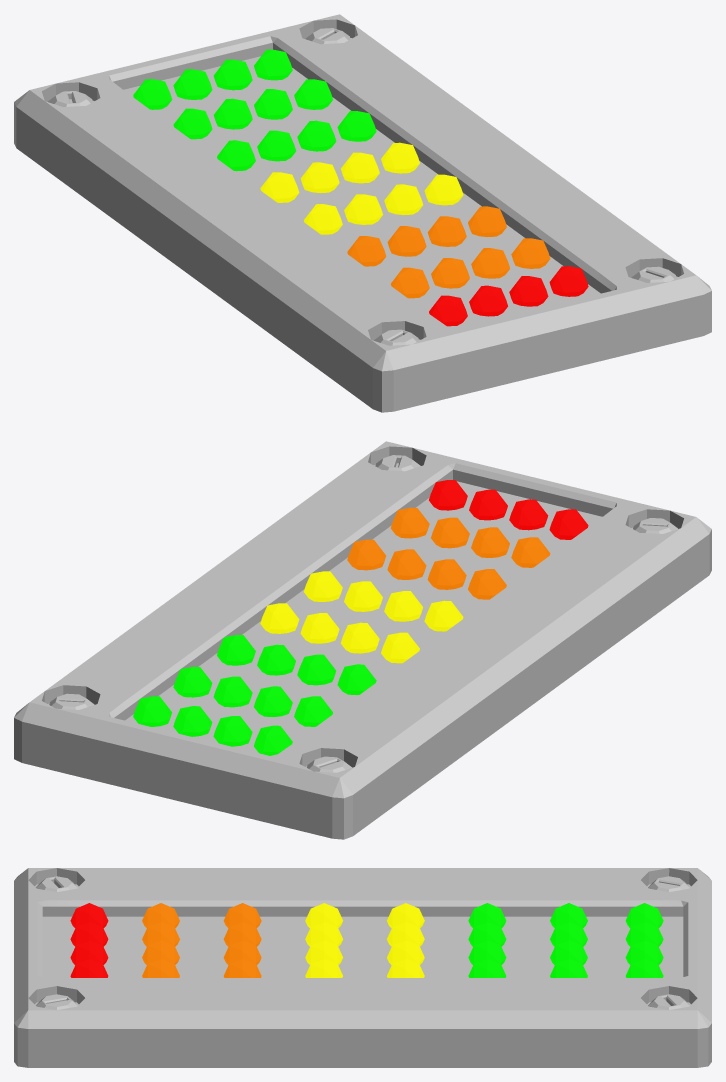
Rendered from NASA_Control_PotentiometerX4.FBX.
3 renders of one model, top to bottom at view 1: azimuth 30°, elevation 25°; view 2: azimuth 150°, elevation 25°; view 3: azimuth 270°, elevation 25°, orthographic. The views are drawn at different scales.
Visible parts, largest first — view 1: PotentiometerX4, LightArray3, LightArray2, LightArray4, LightArray1; view 2: PotentiometerX4, LightArray3, LightArray2, LightArray4, LightArray1; view 3: PotentiometerX4, LightArray1, LightArray2, LightArray3, LightArray4.
Part boxes in pixels (left/top/right/bottom): PotentiometerX4: left=14, top=14, right=711, bottom=412; LightArray3: left=213, top=59, right=548, bottom=306; LightArray2: left=173, top=69, right=507, bottom=316; LightArray4: left=254, top=49, right=588, bottom=296; LightArray1: left=133, top=79, right=467, bottom=326; PotentiometerX4: left=14, top=441, right=711, bottom=839; LightArray3: left=173, top=489, right=507, bottom=736; LightArray2: left=213, top=499, right=548, bottom=746; LightArray4: left=133, top=480, right=467, bottom=726; LightArray1: left=254, top=509, right=588, bottom=755; PotentiometerX4: left=14, top=868, right=711, bottom=1067; LightArray1: left=70, top=903, right=663, bottom=928; LightArray2: left=70, top=921, right=663, bottom=946; LightArray3: left=70, top=940, right=663, bottom=964; LightArray4: left=70, top=958, right=663, bottom=977.
Size of the model in its own units: 11.5 by 2.08 by 22.
